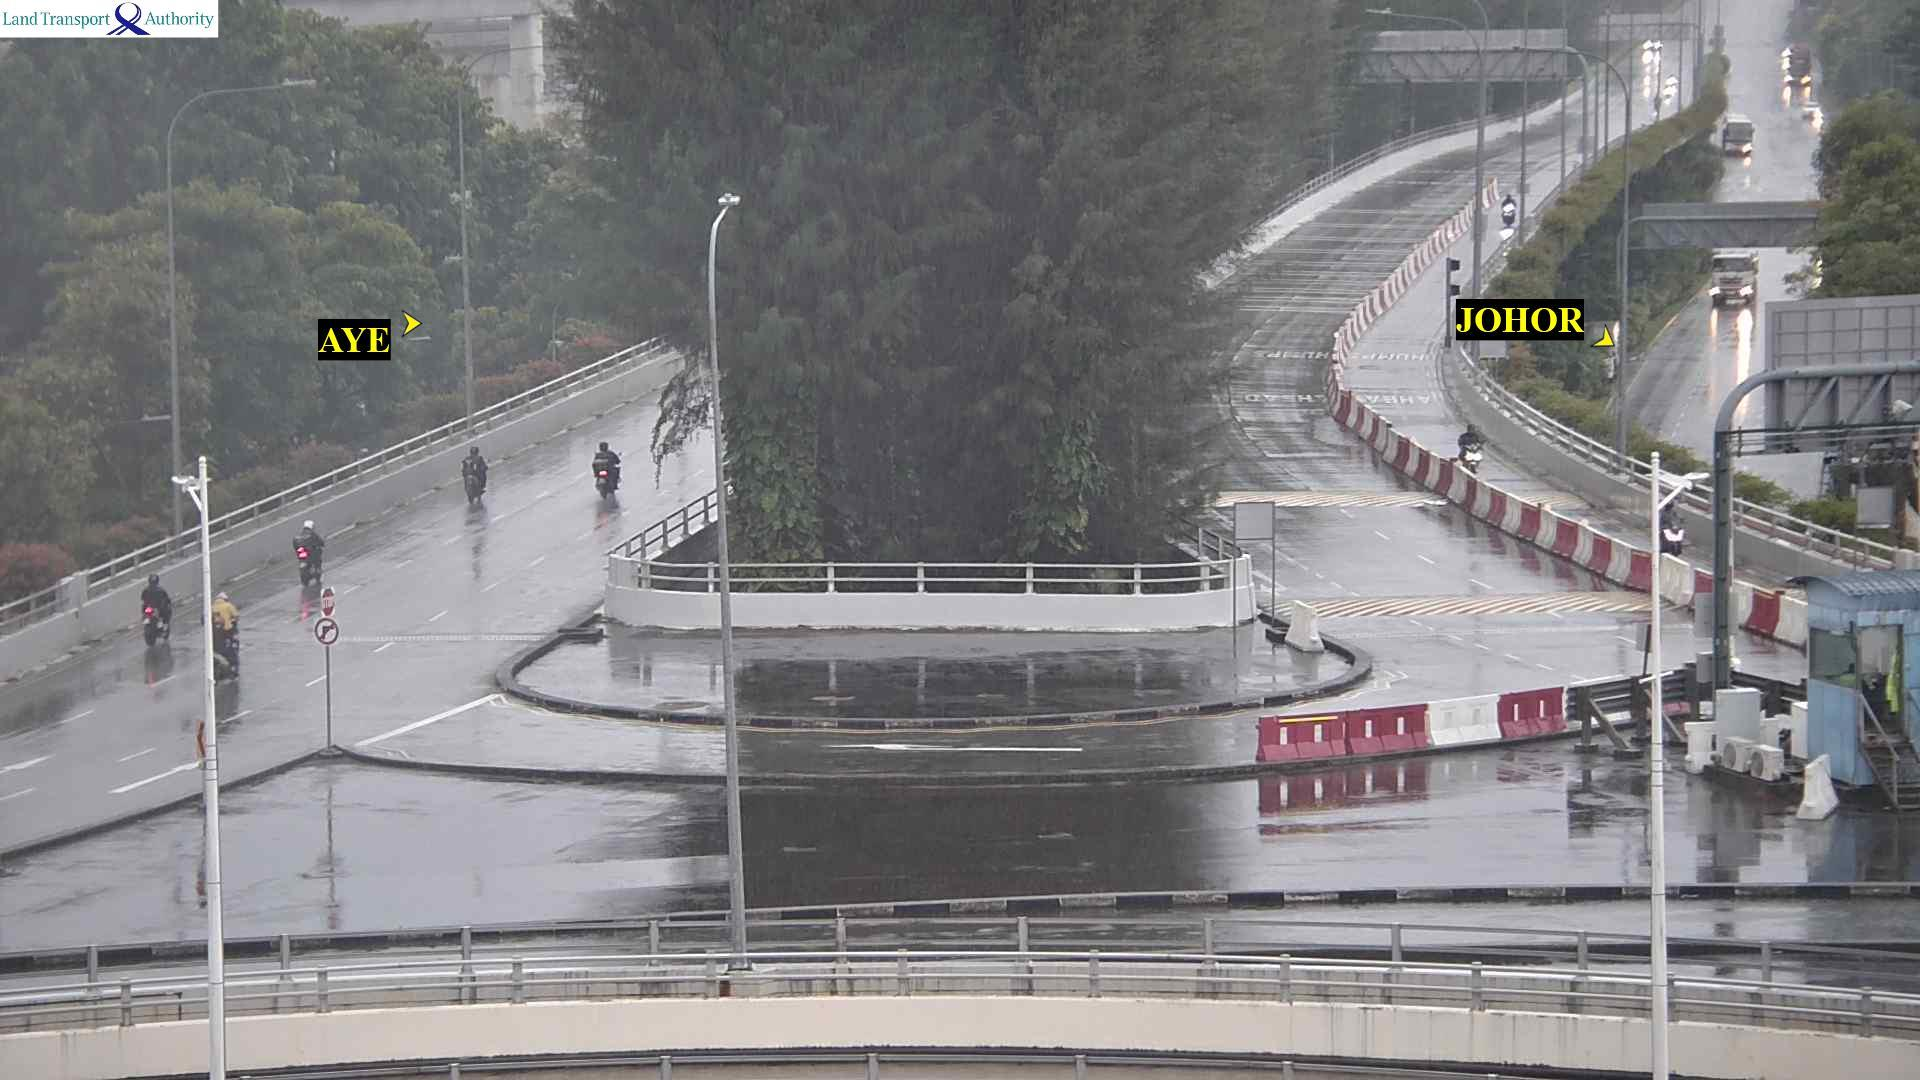vehicle-secondlink-johor: (1660, 501, 1683, 553), (1460, 421, 1480, 469), (1502, 194, 1514, 225)
vehicle-secondlink-singapore: (208, 595, 243, 665), (149, 582, 181, 644), (136, 582, 171, 636), (295, 522, 331, 572), (595, 443, 629, 495), (458, 448, 489, 493)
